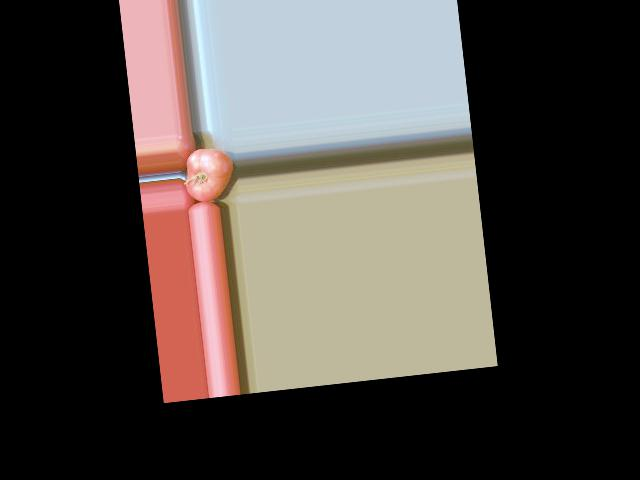tomato: (182, 146, 236, 203)
